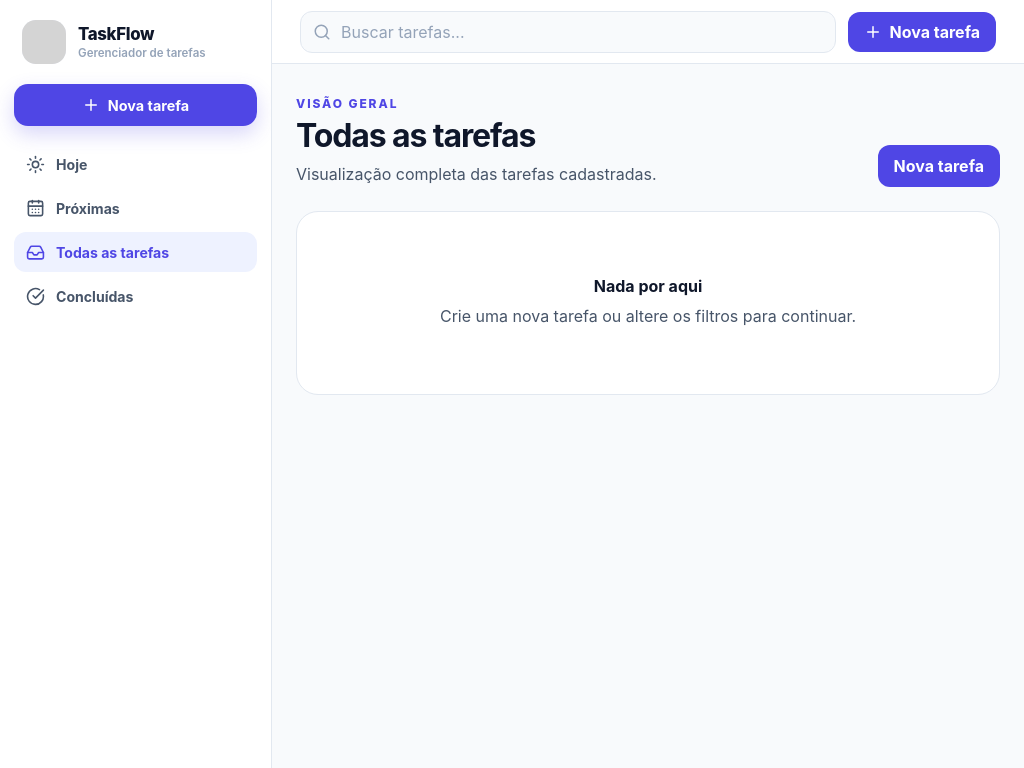
Scenario: Layout integrado › mantém o modal e os campos quando o cadastro falha, orienta sobre o endpoint e permite tentar novamente
The width and height of the screenshot is (1024, 768).
Expected: the heading "Nada por aqui" is shown, [594, 276, 702, 296]
Click the 3rd button "Nova tarefa": (939, 166) [878, 145, 1000, 187]
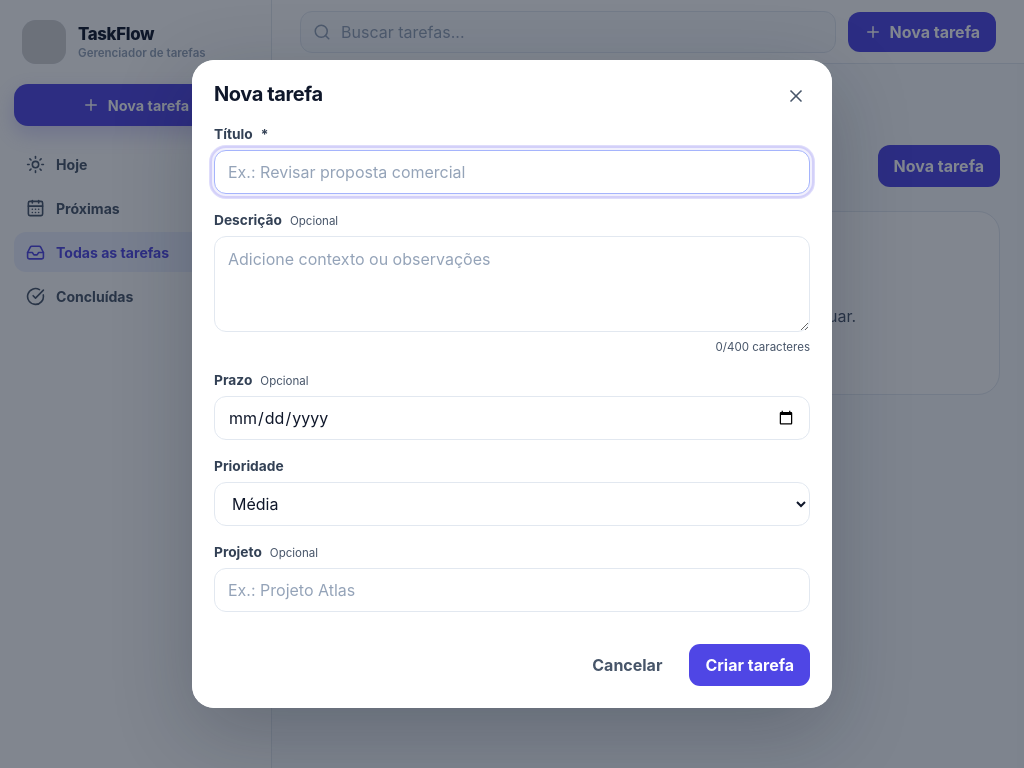
In the field labelled "Título *": (512, 172) [214, 150, 810, 194], type "Preservar meu cadastro"
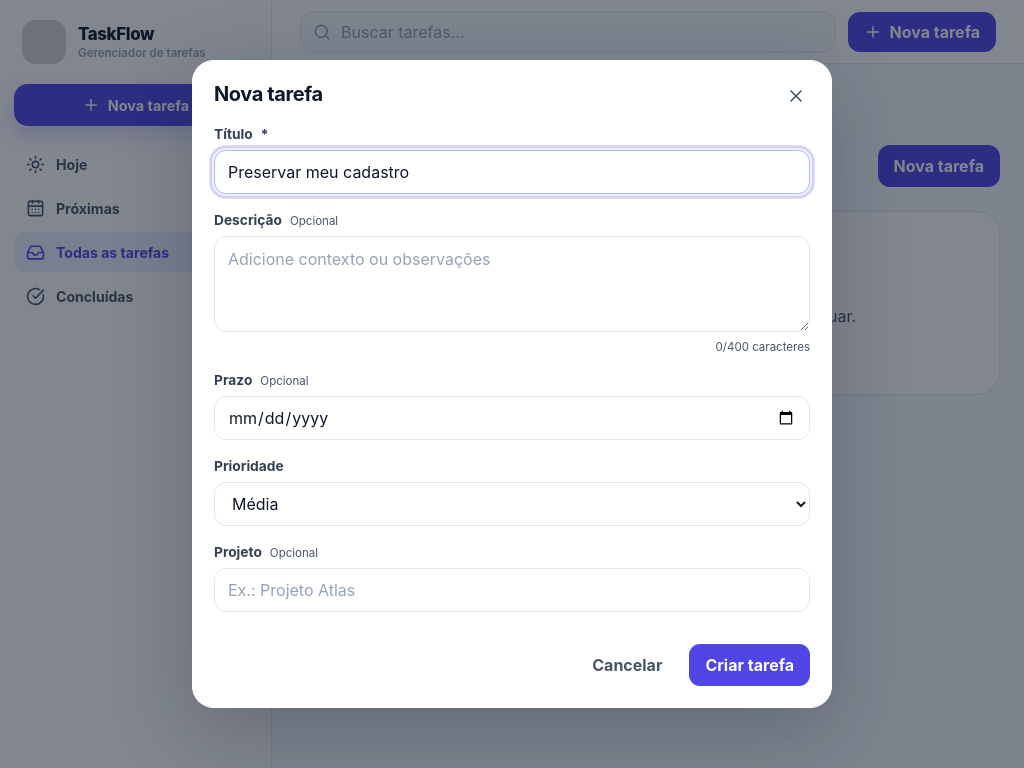
Click the button "Criar tarefa": (750, 665) [689, 644, 810, 686]
(page scrolled)
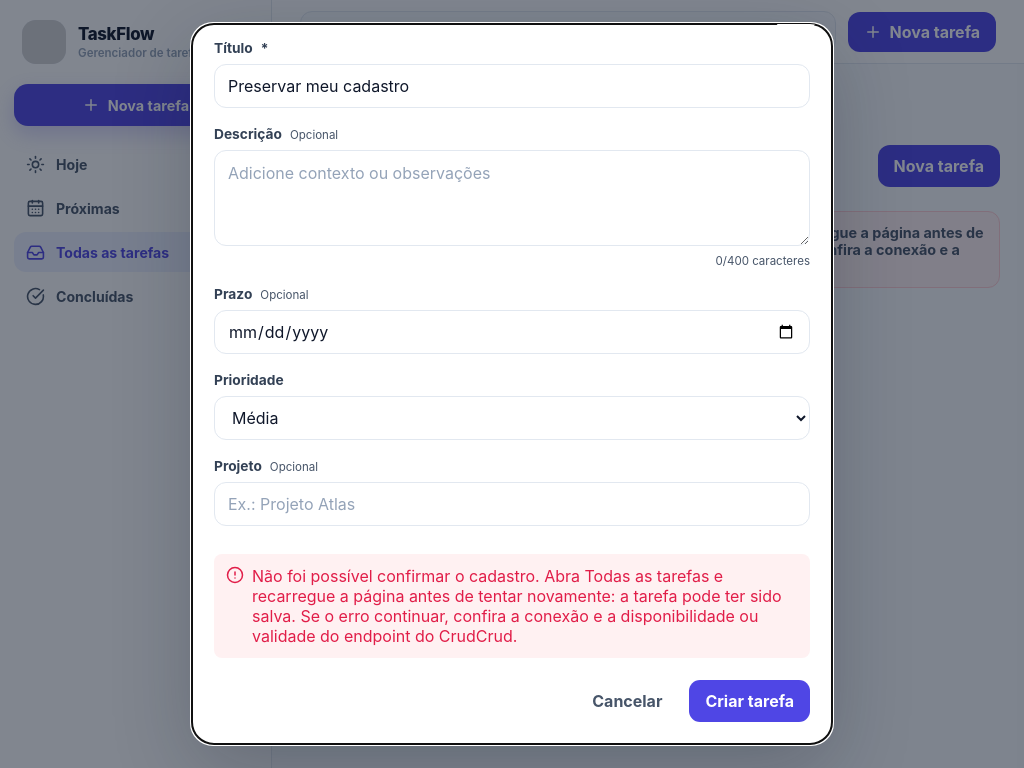
Now the message shows "Abra Todas as tarefas e recarregue a página", box [252, 566, 782, 646]
Now the message shows "a tarefa pode ter sido salva", box [252, 566, 782, 646]
Click the button "Criar tarefa": (750, 701) [689, 680, 810, 722]
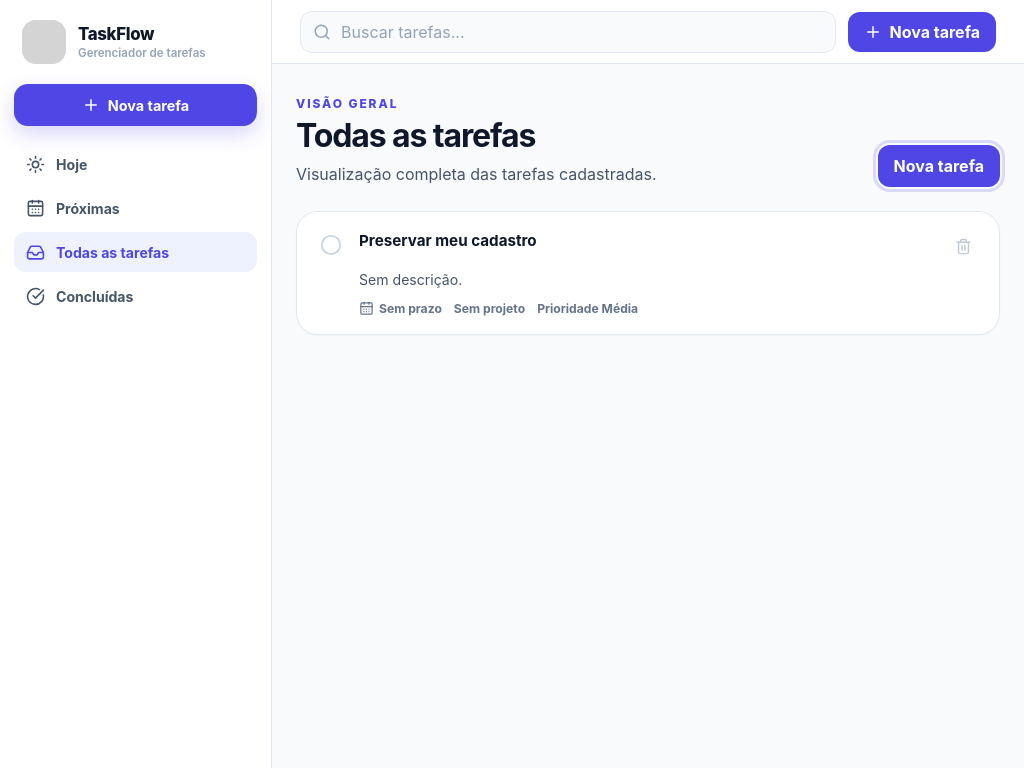
Now the heading "Preservar meu cadastro" is shown, box [359, 231, 537, 250]
Now the dialog is gone
Now the message is gone
